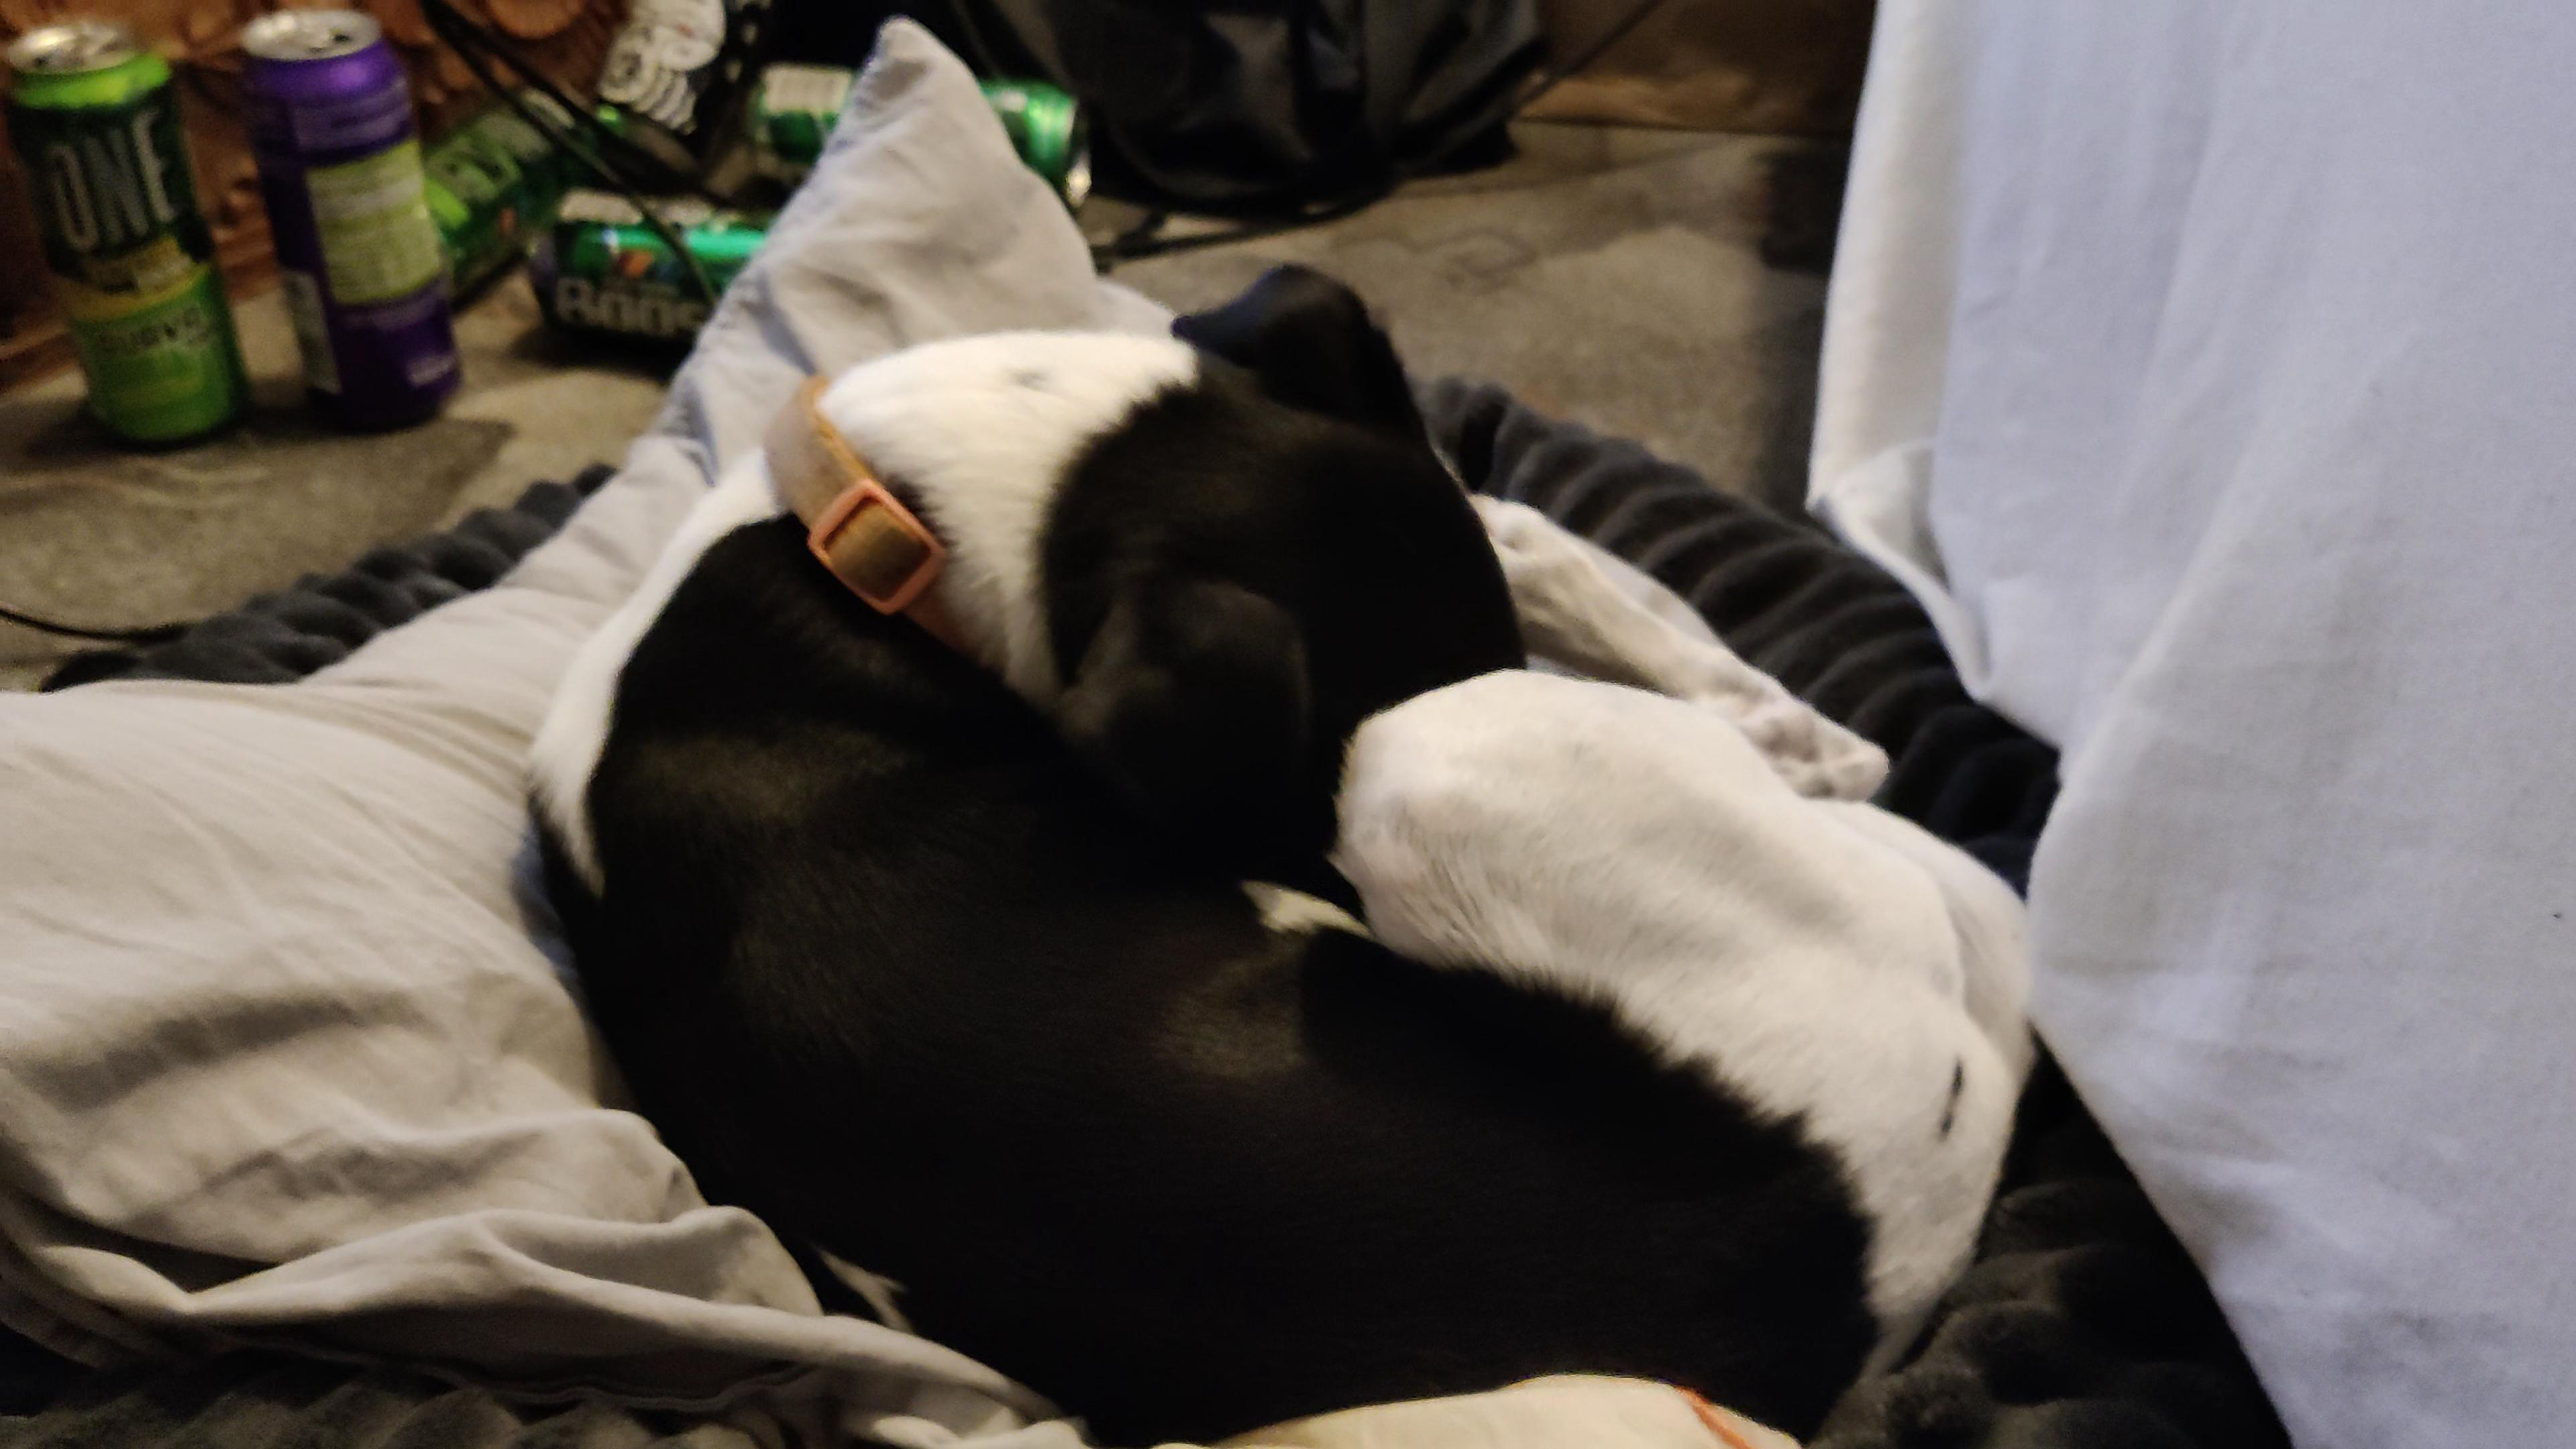Dog: (467, 249, 2082, 1449)
